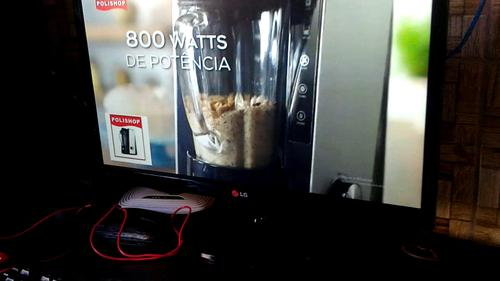Polishop #1: (104, 111, 152, 165)
